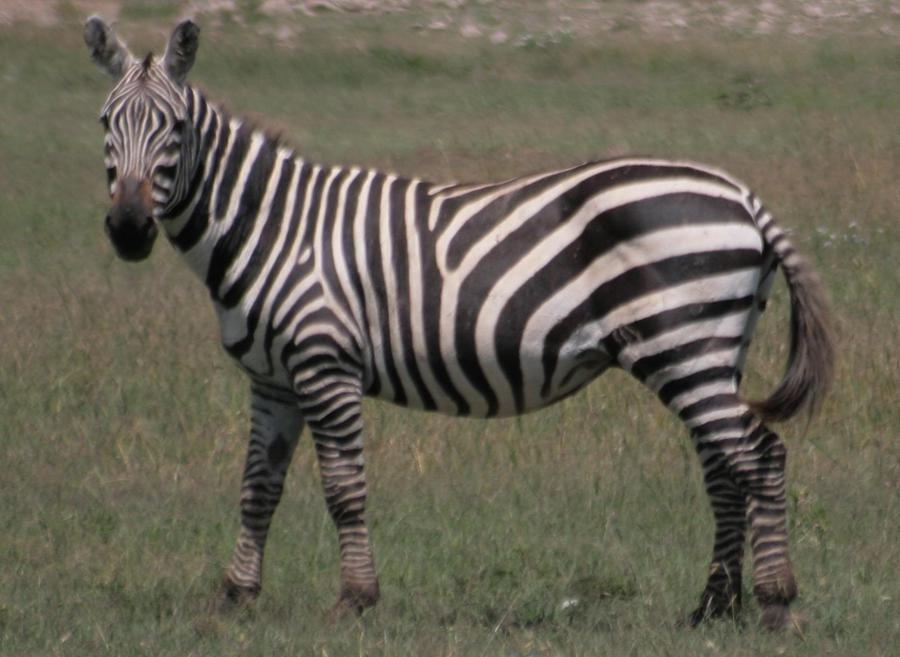zebra_plains: (222, 119, 781, 440)
